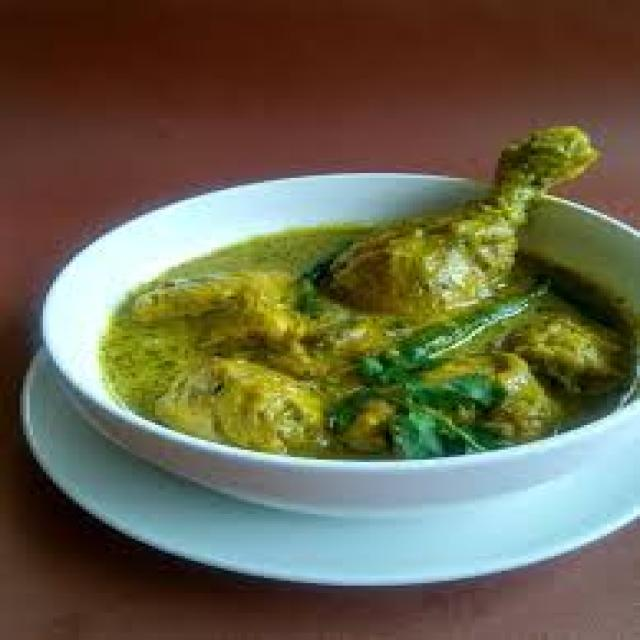Frango: (122, 131, 630, 452)
